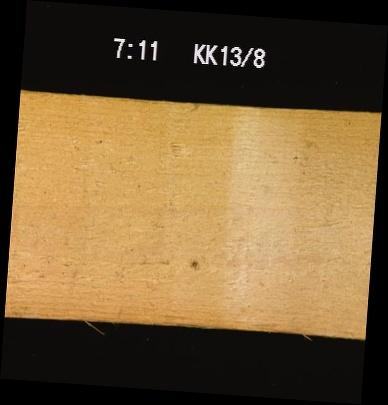small_knot: (188, 255, 200, 270)
